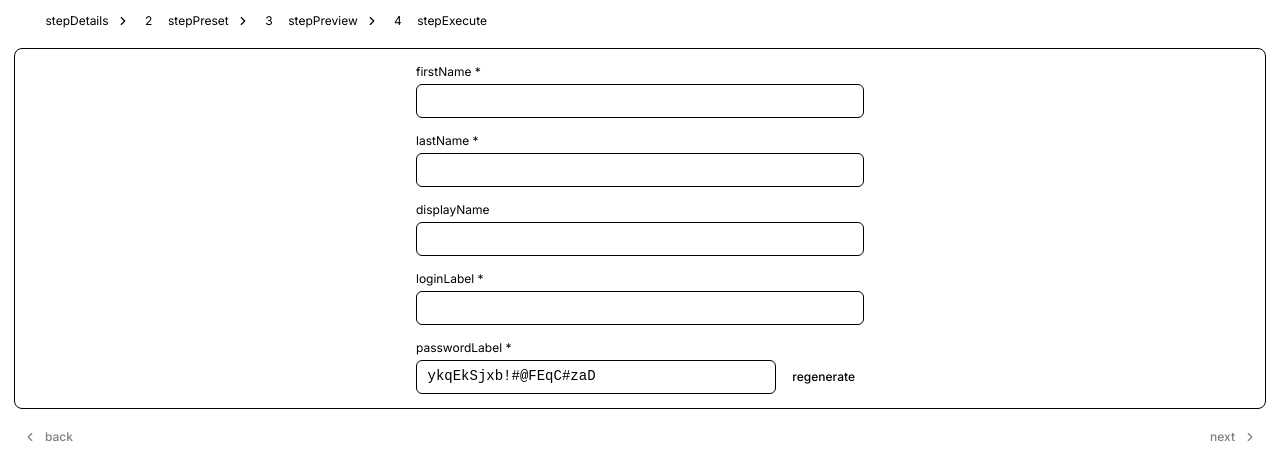
Test: OnboardingWizard › auto-generates login from first and last name
Step 1. Type "John" into the field with test id "input-firstname" → (640, 101), box [416,84,864,118]
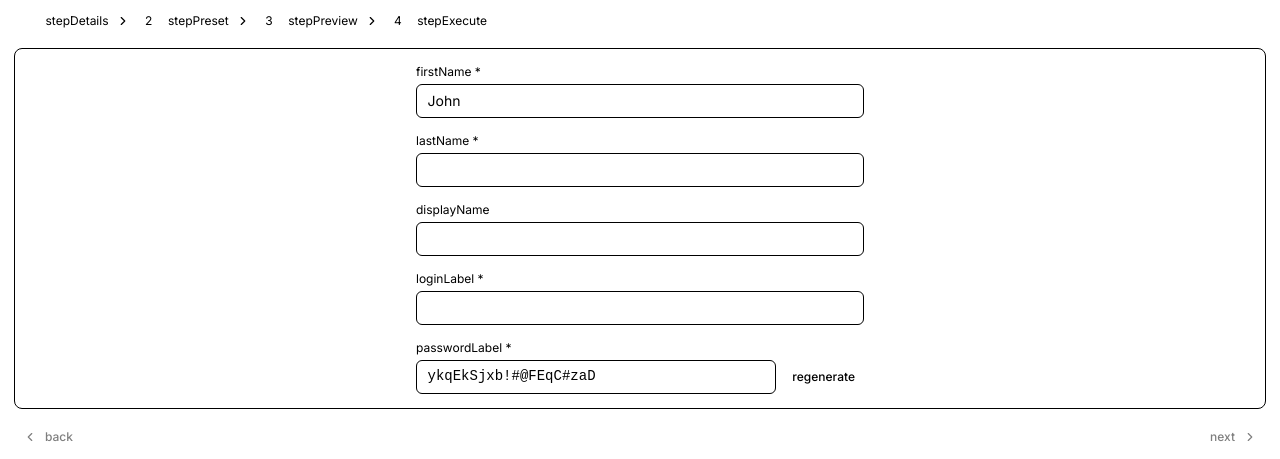
Step 2. Type "Smith" into the field with test id "input-lastname" → (640, 170), box [416,153,864,186]
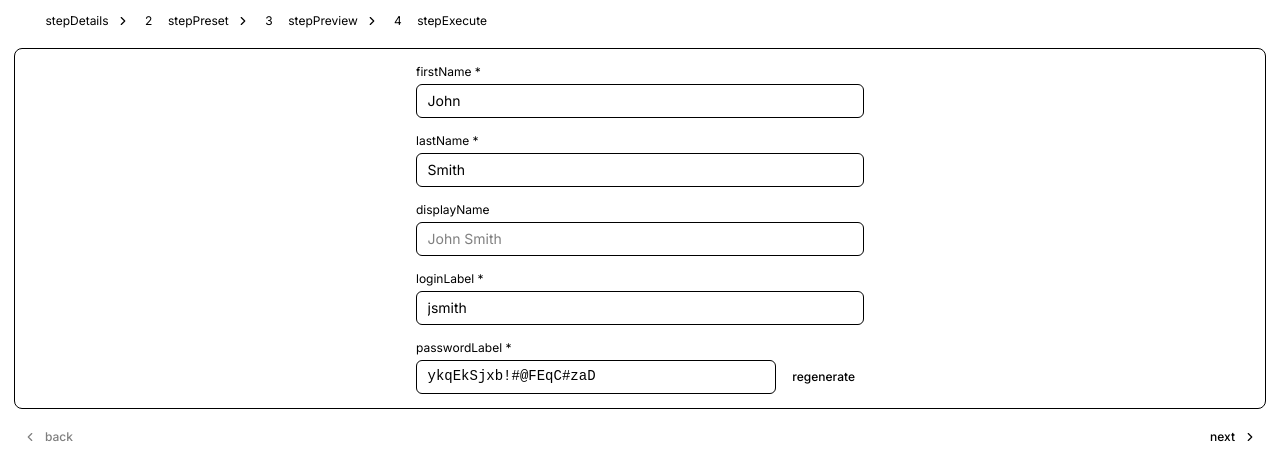
Now the field with test id "input-login" holds "jsmith", box [416,291,864,324]
